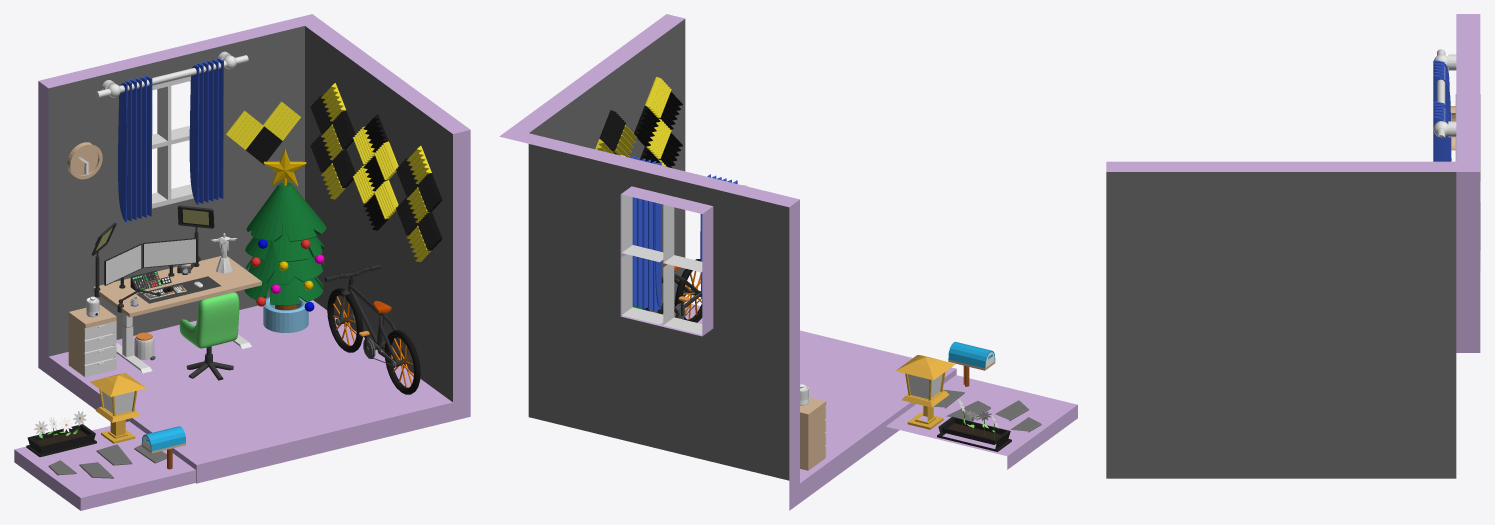
File: room.glb
3 renders of one model, left to right at view 1: azimuth 30°, elevation 25°; view 2: azimuth 150°, elevation 25°; view 3: azimuth 270°, elevation 25°, orthographic. The views are drawn at different scales.
Visible parts, largest first — view 1: Room, Contact Area, Plane.003, Plane.002, Table Top, Cylinder.006, Window Frame, Cube.034, Cube.036, drawer, Cylinder.004, wooden piece (+26 smaller); view 2: Room, Contact Area, Window Frame, Plane.003, Cube.036, wooden piece, Plane.006, Plane.016, Cylinder.025, Cube.021, Cube.014; view 3: Room, Plane.003, Plane.002.
Part boxes in pixels (box(x1,y1,x2,y2)): Room: box(38, 14, 470, 483); Contact Area: box(14, 421, 195, 510); Plane.003: box(189, 58, 223, 204); Plane.002: box(118, 76, 152, 222); Table Top: box(93, 256, 261, 317); Cylinder.006: box(246, 182, 326, 241); Window Frame: box(152, 76, 193, 208); Cube.034: box(179, 292, 239, 348); Cube.036: box(90, 373, 146, 443); drawer: box(84, 321, 116, 377); Cylinder.004: box(245, 241, 324, 284); wooden piece: box(68, 304, 116, 376); Room: box(499, 14, 956, 510); Contact Area: box(886, 375, 1077, 469); Window Frame: box(621, 194, 702, 334); Plane.003: box(631, 156, 661, 311); Cube.036: box(896, 355, 955, 429); wooden piece: box(800, 397, 826, 470); Plane.006: box(937, 416, 1011, 451); Plane.016: box(934, 389, 1041, 432); Cylinder.025: box(948, 341, 995, 370); Cube.021: box(599, 110, 625, 151); Cube.014: box(645, 76, 671, 117); Room: box(1106, 14, 1480, 478); Plane.003: box(1433, 101, 1450, 161); Plane.002: box(1433, 60, 1451, 161).
Bounding box in the file's own units: 19.57 × 13.78 × 13.78.
